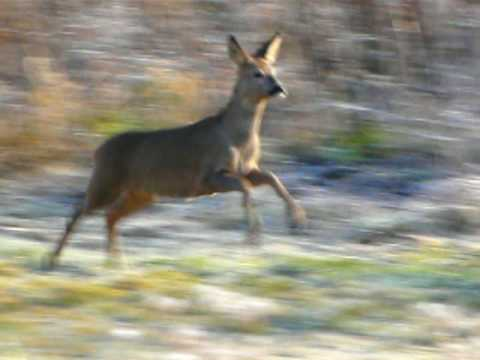Deer: (37, 26, 318, 270)
